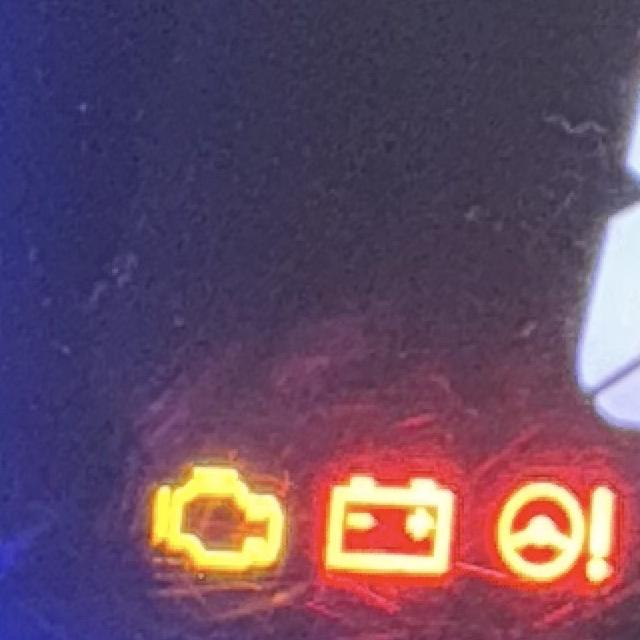Battery Issue: (317, 472, 459, 581)
Engine Issue: (147, 460, 288, 577)
Steering Wheel Locked: (494, 477, 622, 589)
